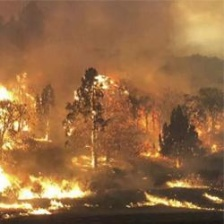fire: (1, 72, 217, 220)
